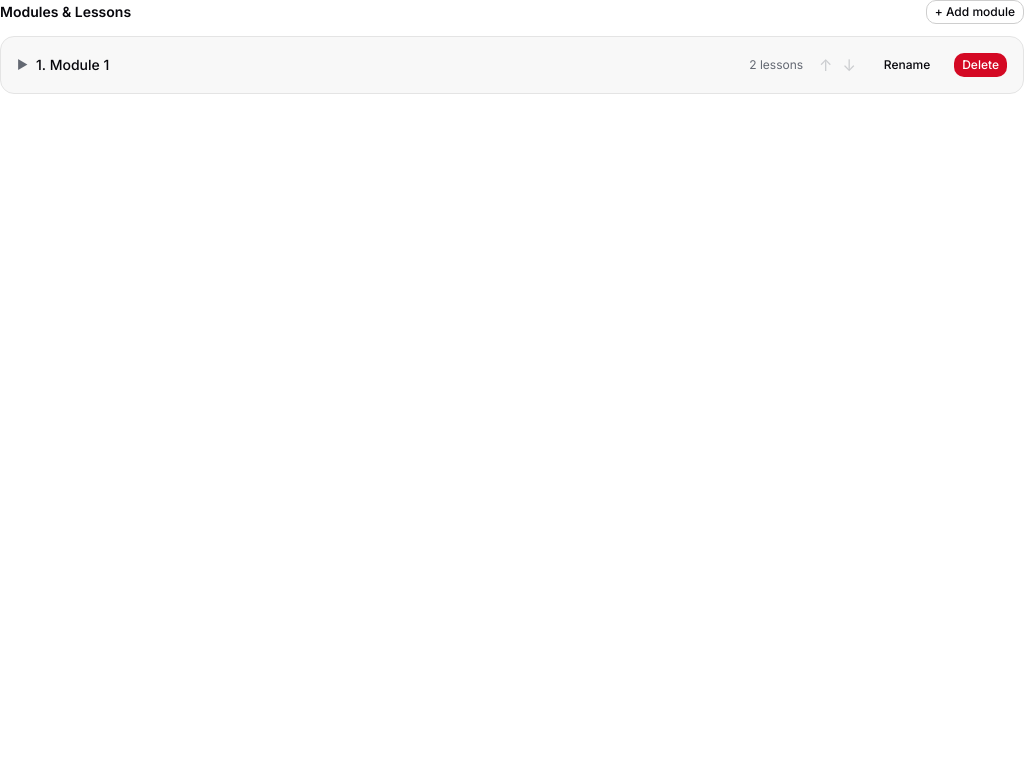
it: ModuleManager — delete confirmations › opens delete-lesson confirm dialog when Delete is clicked
The width and height of the screenshot is (1024, 768).
Click the text "1. Module 1".
click(73, 64)  # box 36,56 -> 109,73
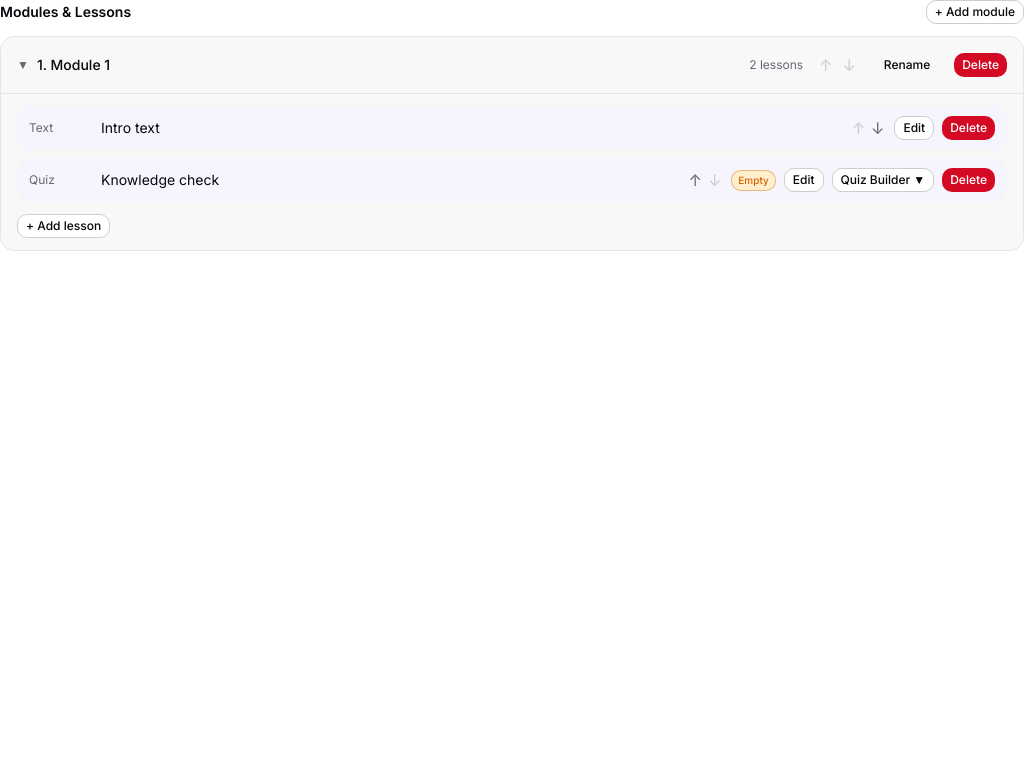
Click the button with aria-label "Delete lesson Intro text".
click(969, 128)  # box 942,116 -> 995,140
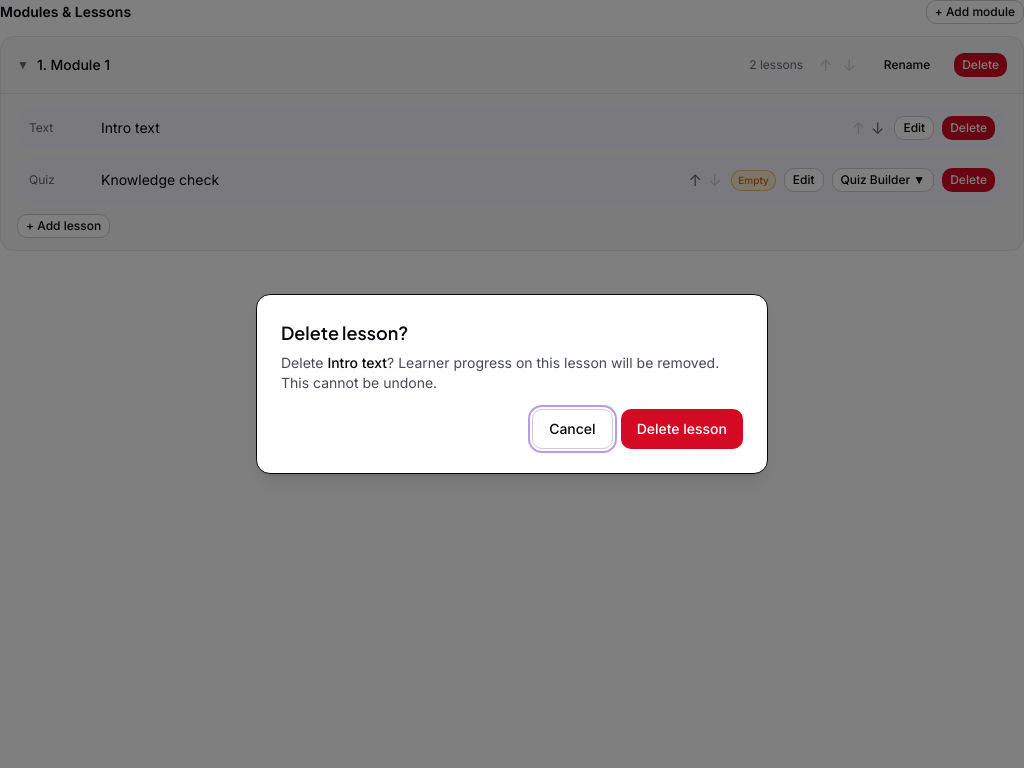
Result: the heading "Delete lesson?" is shown at 281,319 -> 408,347
